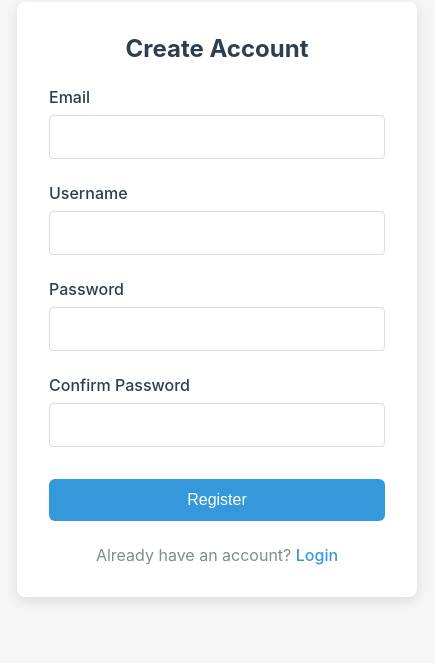
it: Register Component › shows error when password is too short
Type "test@example.com" into the field labelled "Email".
click(217, 137); type("test@example.com")  # box [49,115,385,159]
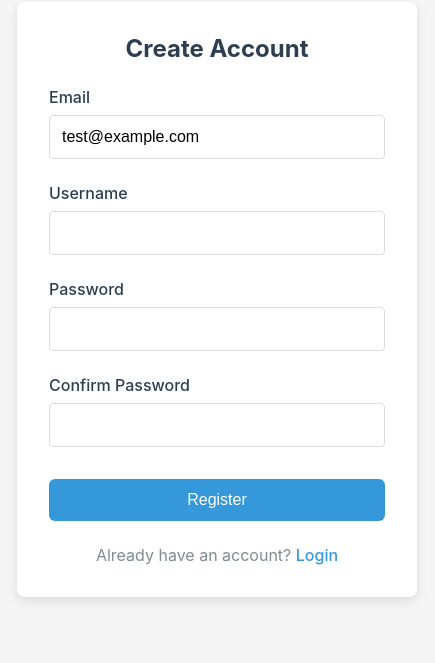
Type "testuser" into the field labelled "Username".
click(217, 233); type("testuser")  # box [49,211,385,255]
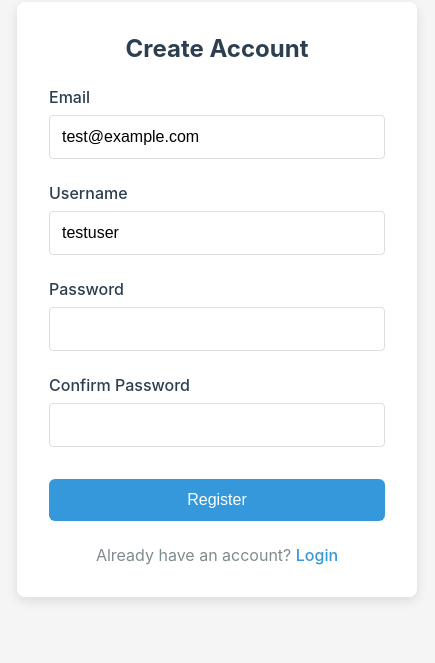
Type "short" into the password field labelled "Password".
click(217, 329); type("short")  # box [49,307,385,351]
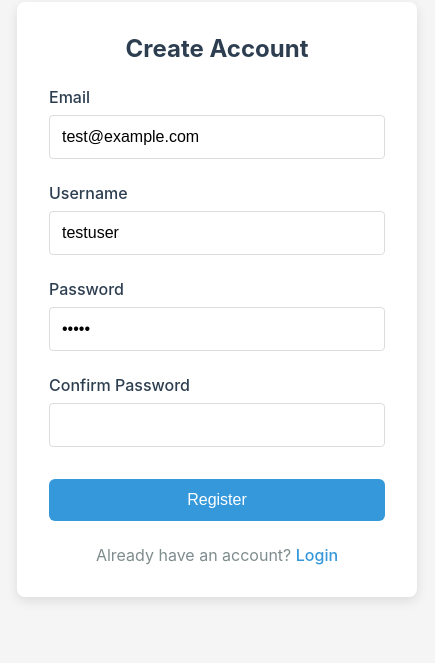
Type "short" into the password field labelled "Confirm Password".
click(217, 425); type("short")  # box [49,403,385,447]
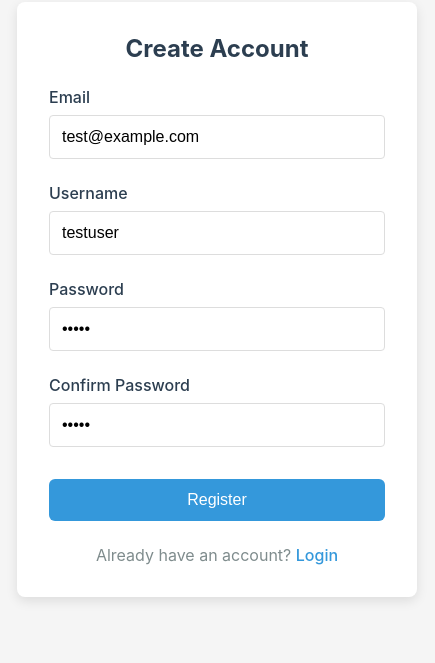
Click the button "Register".
click(217, 500)  # box [49,479,385,521]
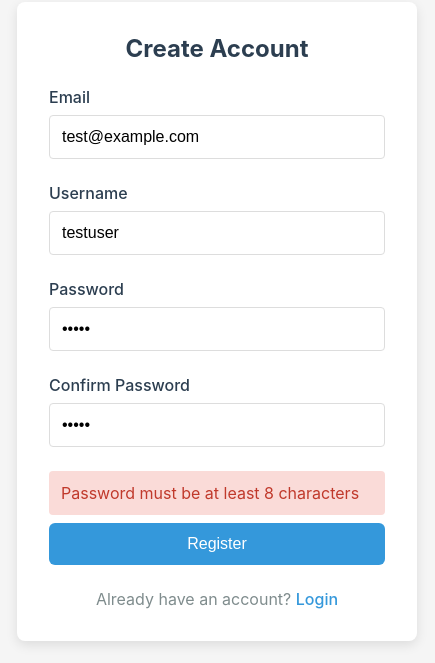
Expected: the text "Password must be at least 8 characters" is shown, [49,471,385,515]
